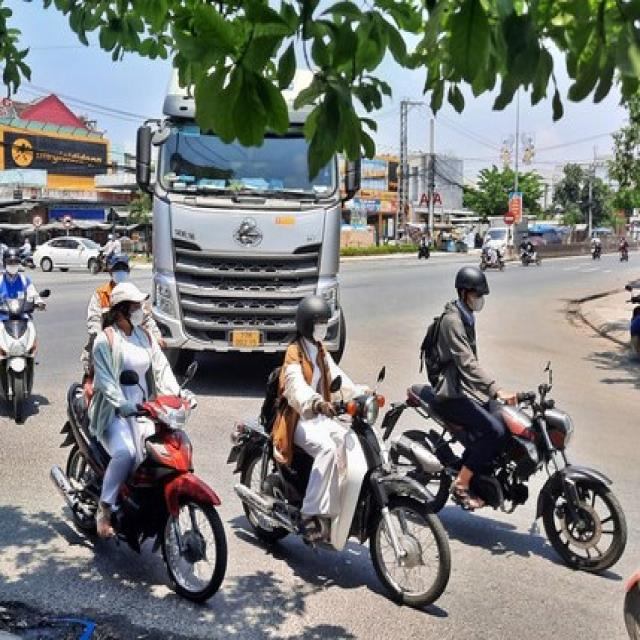helmet: (295, 296, 332, 339), (455, 267, 490, 294)
